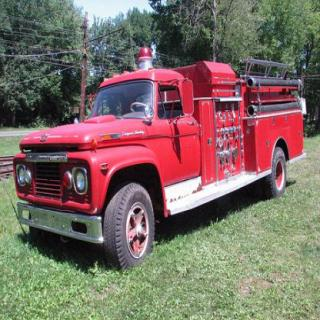Normal_vehicle: (11, 42, 307, 266)
